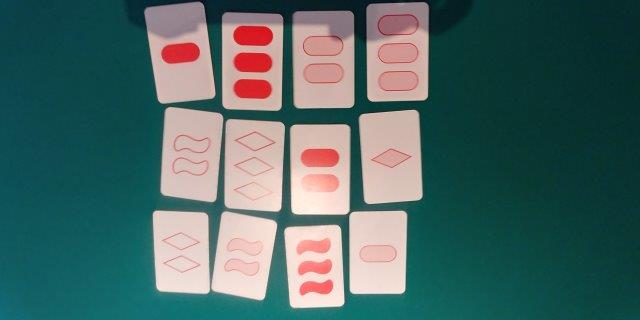1FP: (157, 7, 203, 96)
1HD: (365, 115, 417, 198)
1HP: (353, 216, 403, 291)
2ED: (157, 213, 205, 289)
2EW: (166, 113, 215, 195)
2FP: (292, 126, 347, 211)
2HP: (297, 14, 350, 104)
2HW: (220, 221, 265, 292)
3ED: (228, 123, 278, 207)
3FP: (226, 16, 278, 107)
3FW: (290, 228, 340, 305)
3HP: (369, 5, 424, 97)
